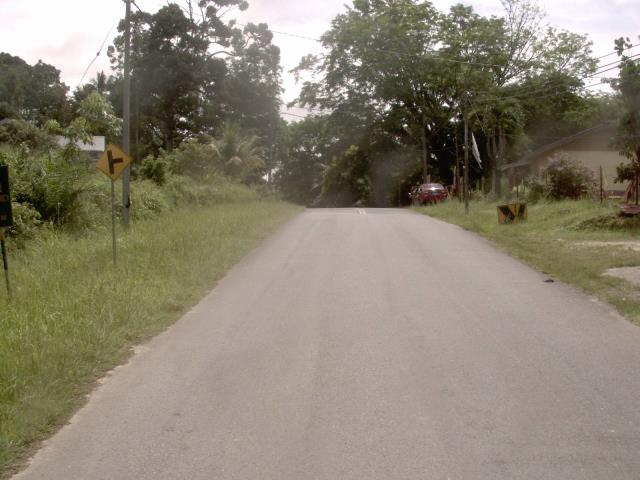traffic_sign: (87, 135, 138, 186)
